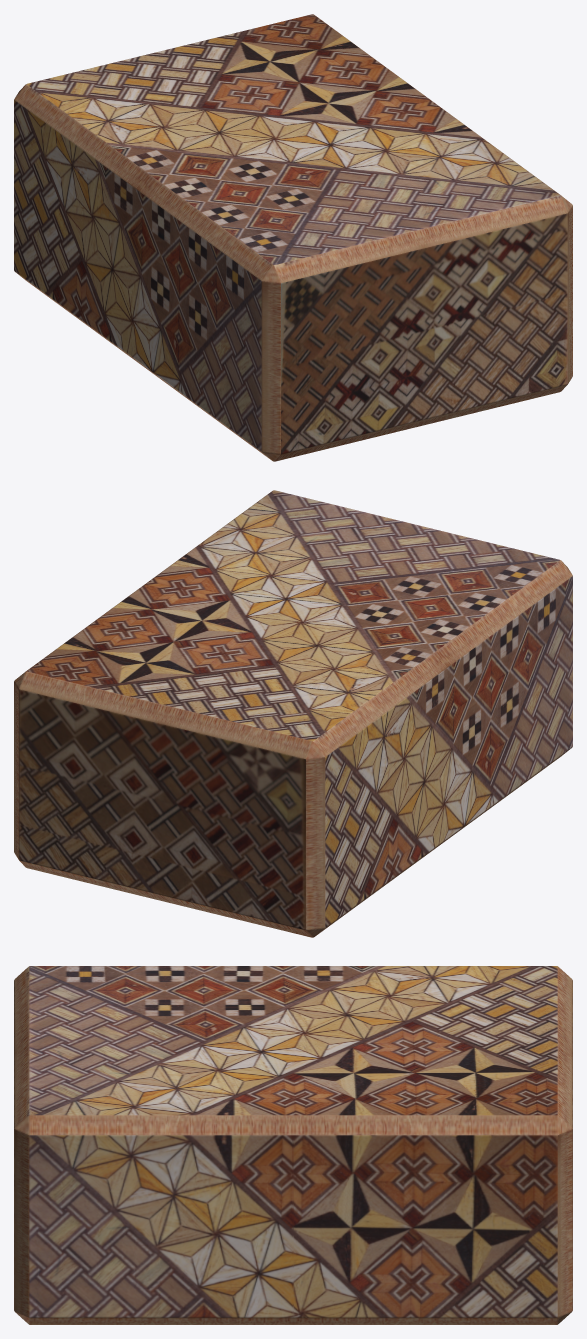
The model's file is puzzlebox.obj.
3 views of the same model, one above another, from view 1: azimuth 30°, elevation 25°; view 2: azimuth 150°, elevation 25°; view 3: azimuth 270°, elevation 25° (orthographic). The views are drawn at different scales.
Parts seen in each view (by area): view 1: Cube; view 2: Cube; view 3: Cube.
Part boxes in pixels (x1,y1,x2,y2): Cube: [14, 14, 572, 461]; Cube: [14, 490, 572, 937]; Cube: [14, 966, 572, 1324].
Bounding box in the file's own units: 631 × 381 × 919.
